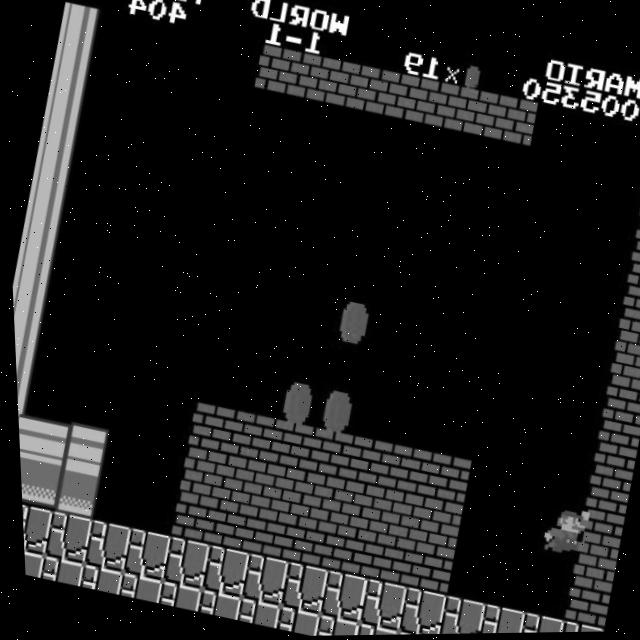1- brick_block: (399, 542, 451, 597), (447, 87, 499, 142), (369, 489, 421, 544), (360, 533, 412, 588), (369, 70, 421, 125), (290, 472, 342, 527), (281, 516, 333, 571), (290, 53, 342, 108), (211, 455, 263, 510), (408, 79, 460, 133), (338, 436, 390, 490), (329, 481, 381, 535), (320, 525, 372, 579), (329, 62, 381, 116), (259, 419, 311, 473), (251, 464, 303, 518), (242, 508, 294, 562), (251, 45, 303, 99), (172, 447, 224, 501), (163, 491, 215, 545), (203, 499, 254, 554), (377, 445, 429, 498), (220, 411, 272, 464), (583, 442, 634, 496), (574, 487, 625, 541), (566, 532, 617, 586), (557, 576, 608, 630), (487, 96, 538, 150), (417, 453, 468, 507), (408, 498, 459, 552), (181, 402, 232, 456), (299, 428, 350, 481), (592, 397, 640, 452), (601, 353, 640, 407), (609, 308, 640, 362), (617, 264, 640, 318), (626, 220, 640, 273), (635, 175, 640, 228)
11- little_mario: (534, 502, 589, 559)
14- pipe: (15, 412, 67, 467), (29, 135, 81, 190), (20, 180, 72, 235), (46, 46, 98, 100), (37, 91, 89, 145), (55, 1, 106, 56), (11, 225, 63, 278), (9, 268, 54, 323), (16, 457, 58, 511), (11, 314, 45, 368), (13, 359, 36, 412), (14, 404, 28, 457)
15- pipe_head: (54, 421, 106, 476), (45, 465, 97, 520)
17- undestructible_block: (272, 561, 324, 616), (233, 553, 285, 608), (194, 544, 246, 599), (115, 527, 167, 582), (37, 510, 89, 565), (351, 579, 403, 633), (155, 536, 207, 590), (76, 519, 128, 573), (312, 570, 363, 625), (390, 587, 441, 636), (429, 596, 480, 635), (18, 502, 49, 556), (468, 604, 519, 635), (229, 597, 276, 630), (112, 571, 158, 604), (33, 554, 79, 587), (190, 589, 236, 621), (151, 580, 197, 612), (72, 563, 118, 595), (268, 606, 314, 637), (508, 613, 558, 634), (308, 614, 353, 637), (548, 620, 597, 634), (19, 546, 40, 578), (347, 623, 392, 636)
2- coin: (325, 293, 377, 348), (307, 382, 359, 437), (268, 374, 320, 429)
